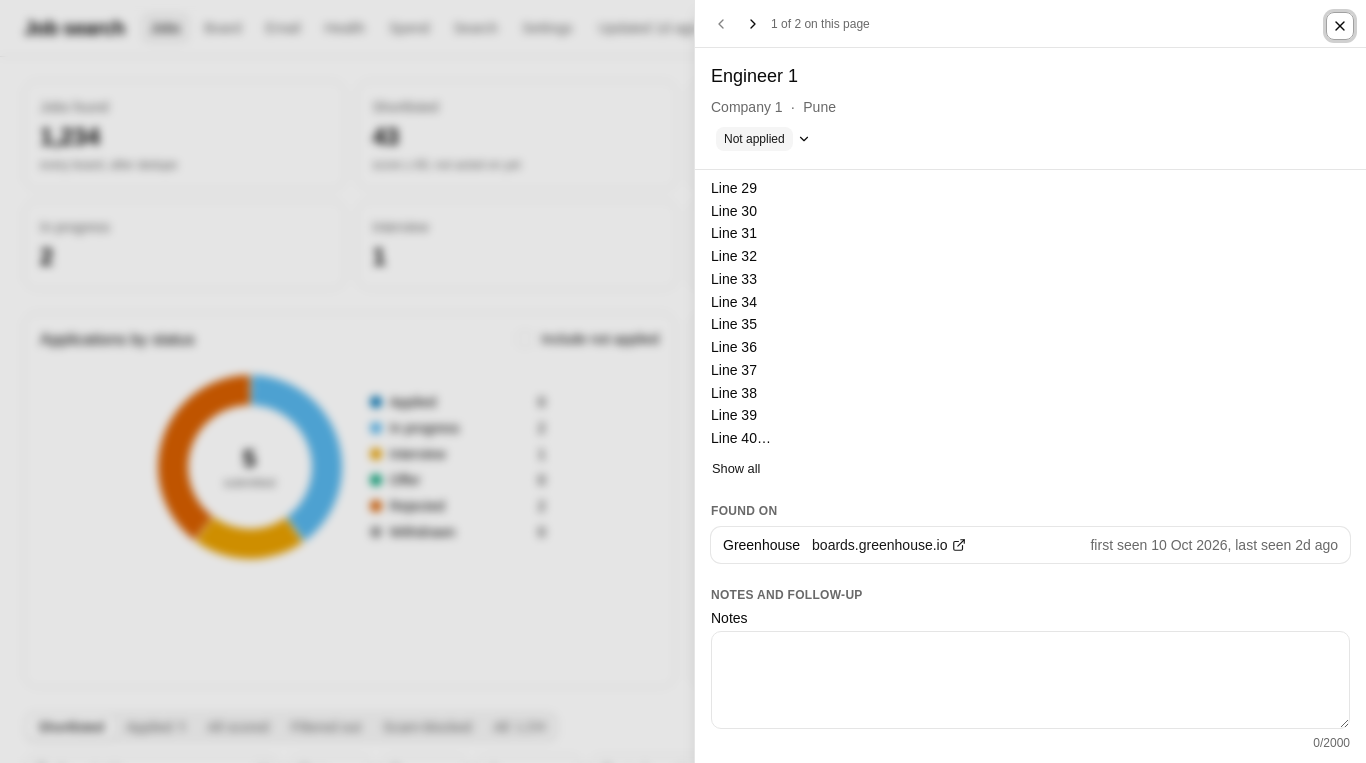
Test case: JobDrawer: sections › collapses a long description after 40 lines, with Show all
(page scrolled)
Click the button "Show all" at (736, 469), box [711,459,761,479]
(page scrolled)
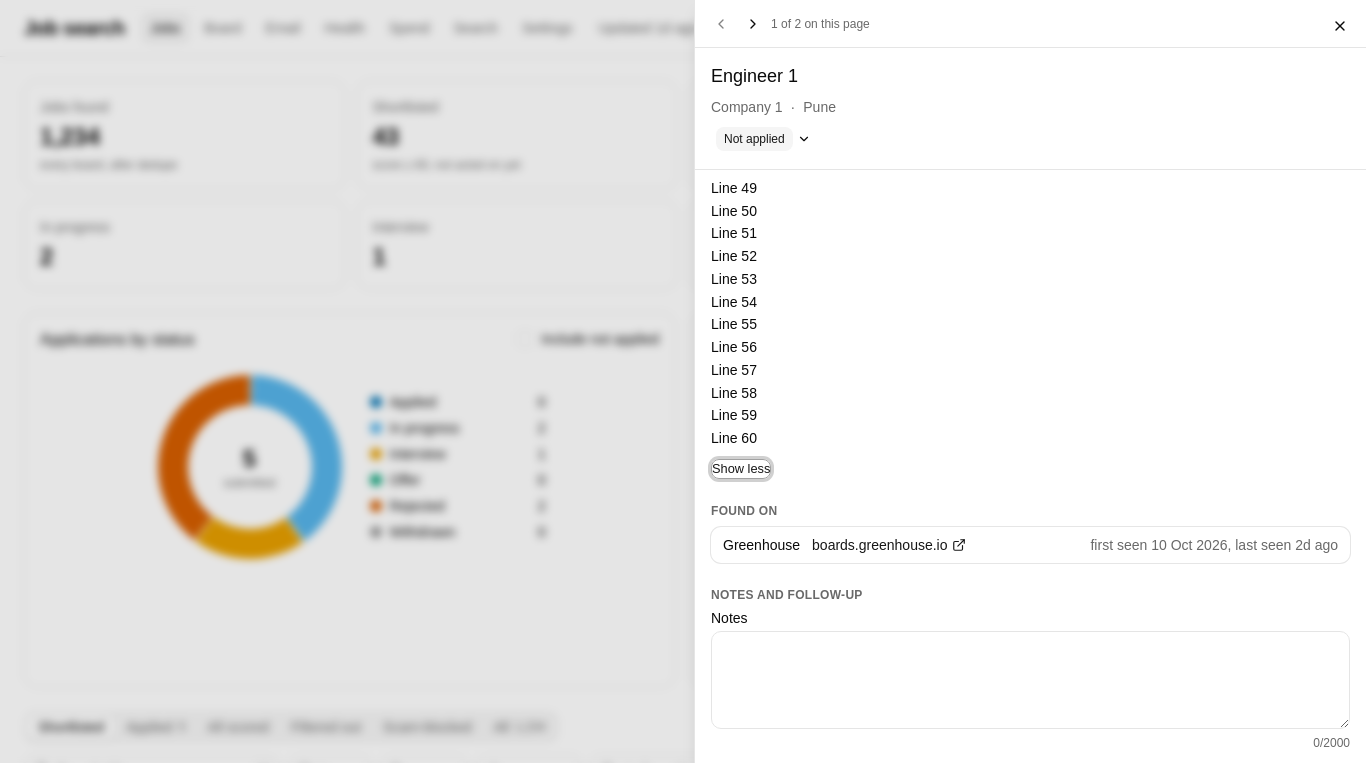
expect the button "Show less" is expanded: met, box [711,459,771,479]
